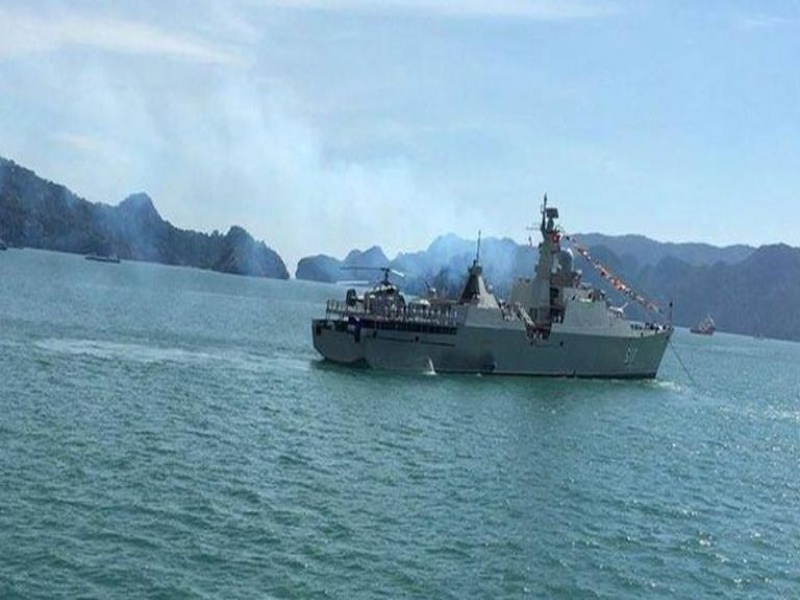boat: (692, 305, 723, 339)
cruise: (335, 229, 671, 392)
